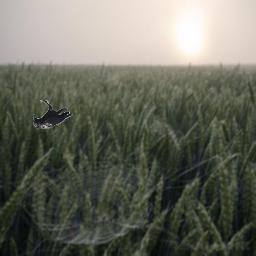Crow: (33, 100, 73, 129)
